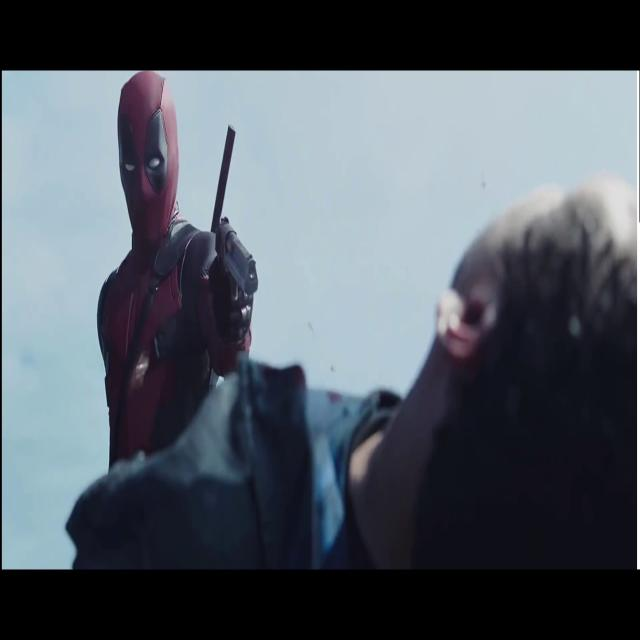weapons: (200, 192, 264, 364)
